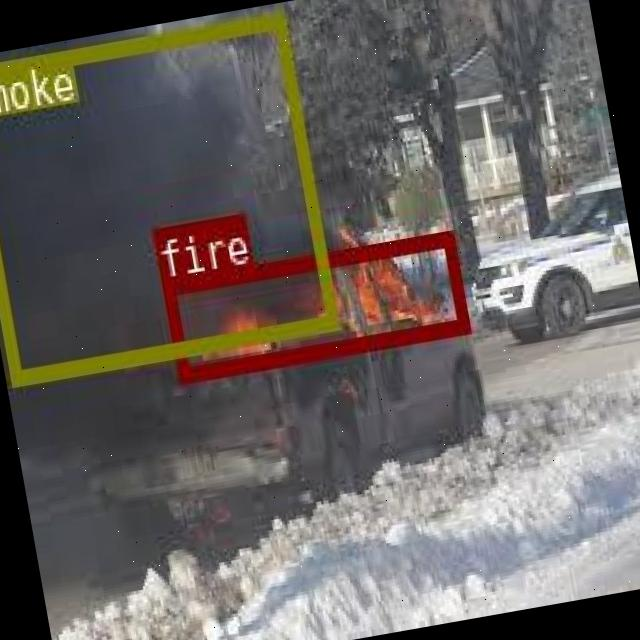fire: (160, 229, 466, 380)
smoke: (0, 10, 337, 384)
